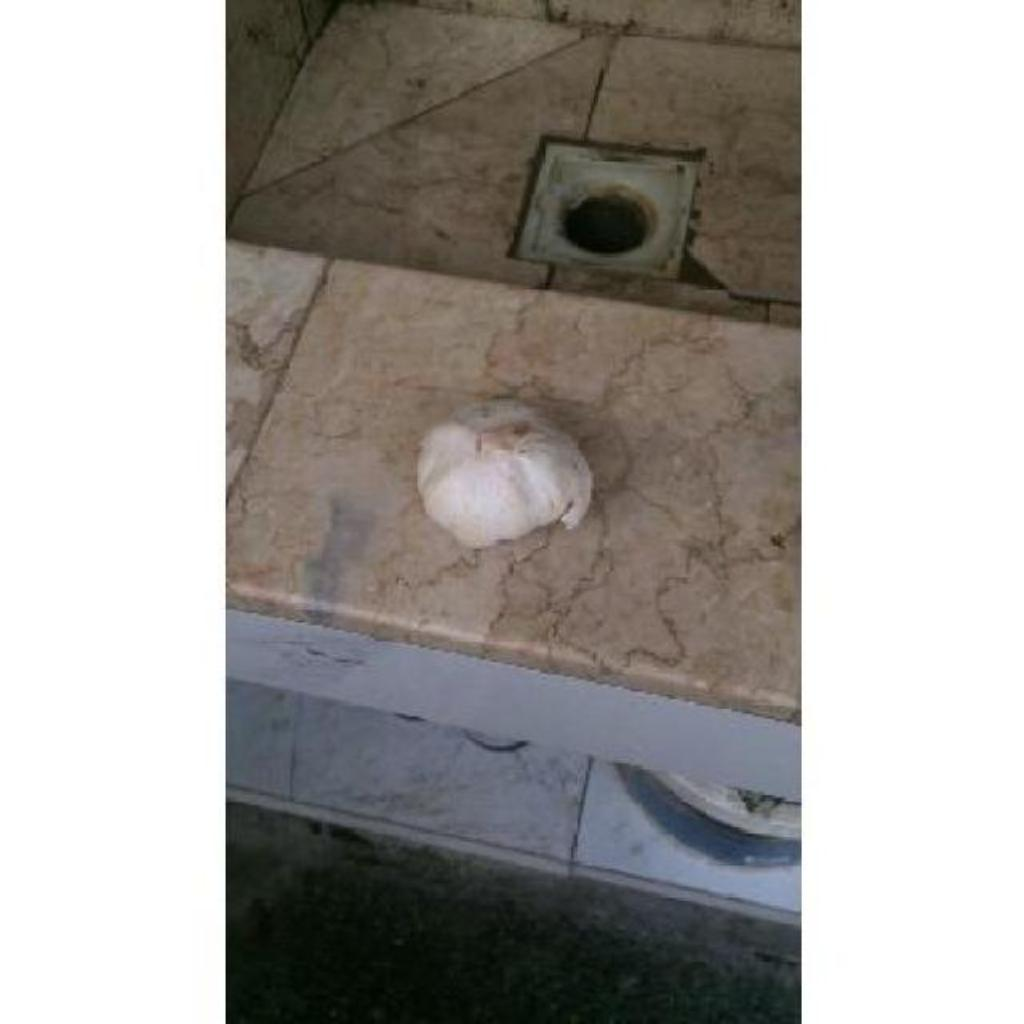garlic: (418, 402, 592, 547)
